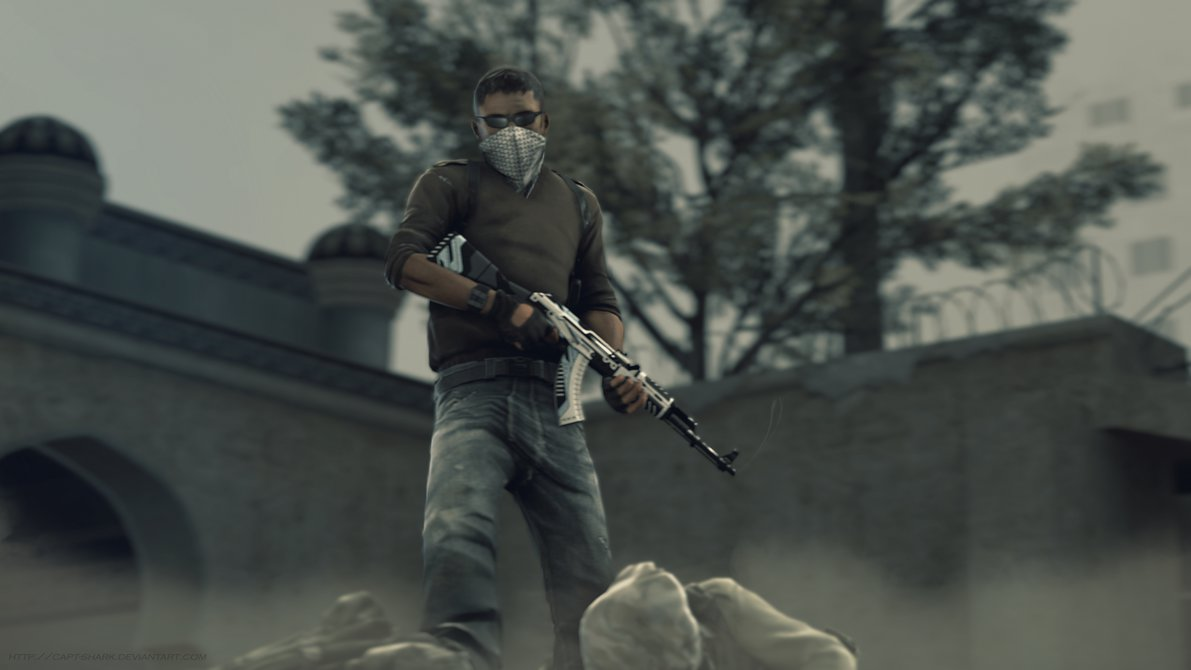t: (389, 67, 614, 651)
th: (477, 66, 549, 179)
